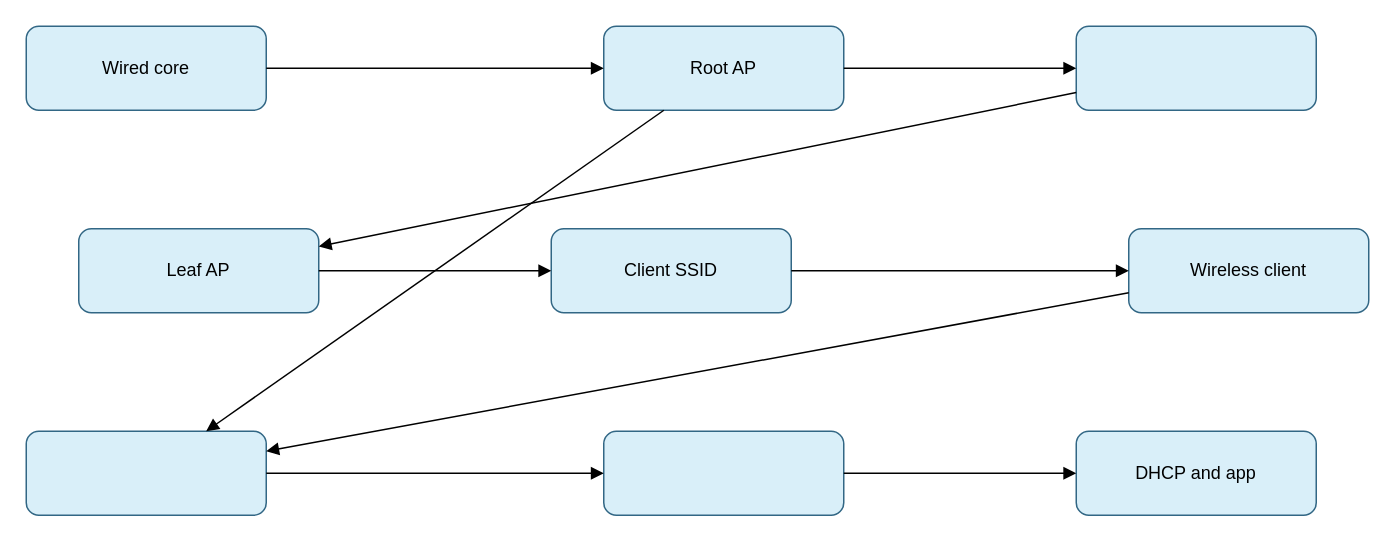
The diagram is 1395 pixels wide and 542 high, and some of its shapes have lost their labels. The shapes that lost their labels are listed below. From the top down, each one's centre as x and y in pixels, then its label:
At point (1195, 67): "Mesh backhaul".
At point (145, 472): "CAPWAP control".
At point (723, 472): "VLAN/tunnel path".
